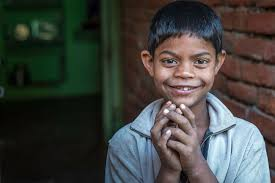without_mask: (141, 21, 227, 107)
